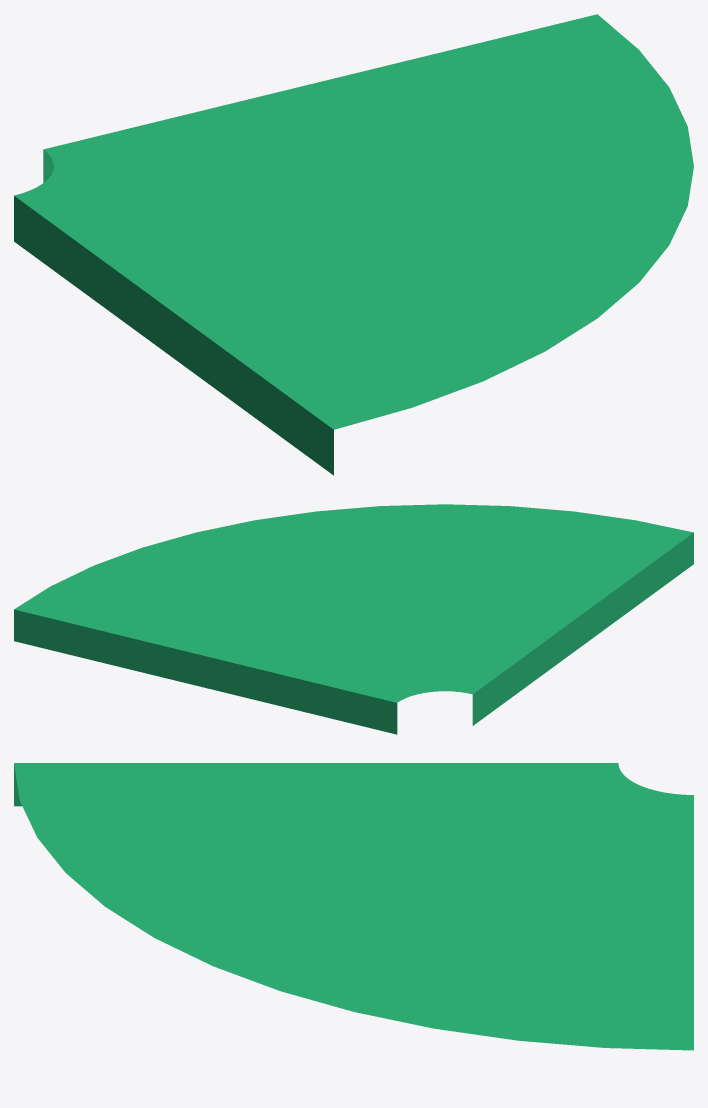
File: Round corner B base.FBX
The picture shows the model from 3 angles, top to bottom: view 1: azimuth 30°, elevation 25°; view 2: azimuth 150°, elevation 25°; view 3: azimuth 270°, elevation 25°; orthographic projection. The views are drawn at different scales.
Parts seen in each view (by area): view 1: roundCornerB; view 2: roundCornerB; view 3: roundCornerB.
Part boxes in pixels (x1=…): roundCornerB: x1=14, y1=14, x2=693, y2=475; roundCornerB: x1=14, y1=504, x2=693, y2=734; roundCornerB: x1=14, y1=763, x2=693, y2=1050.
Bounding box in the file's own units: 89.99 × 6.33 × 89.99.
